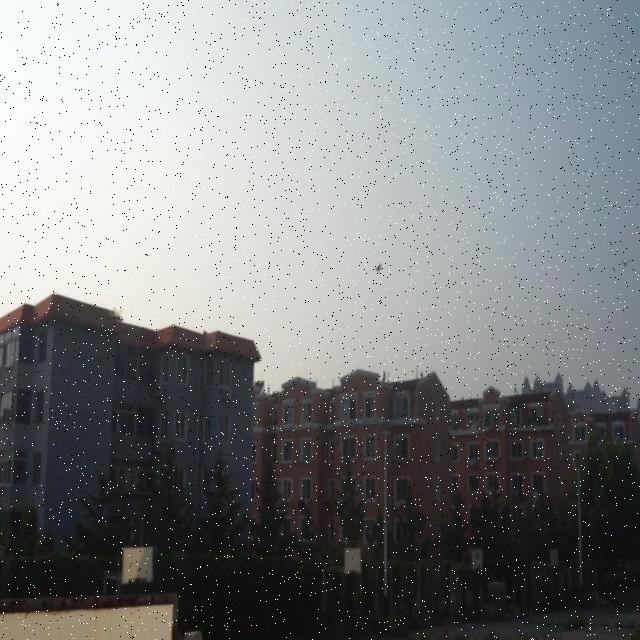UAV: (375, 262, 382, 274)
